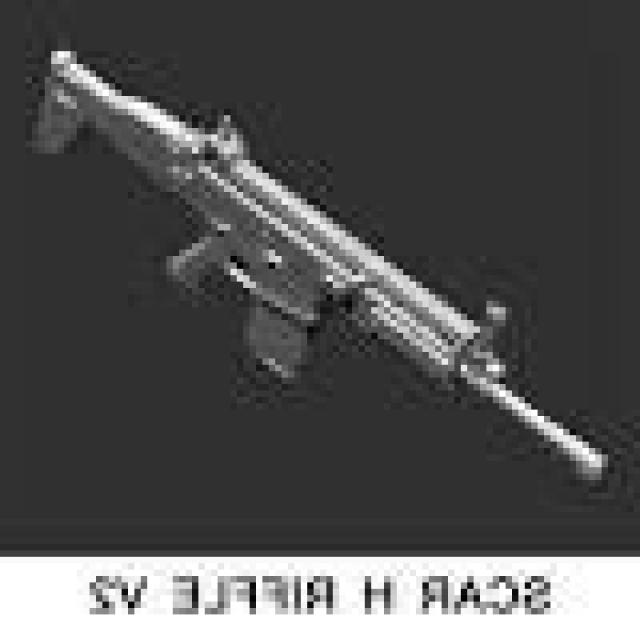Gun: (16, 43, 612, 492)
